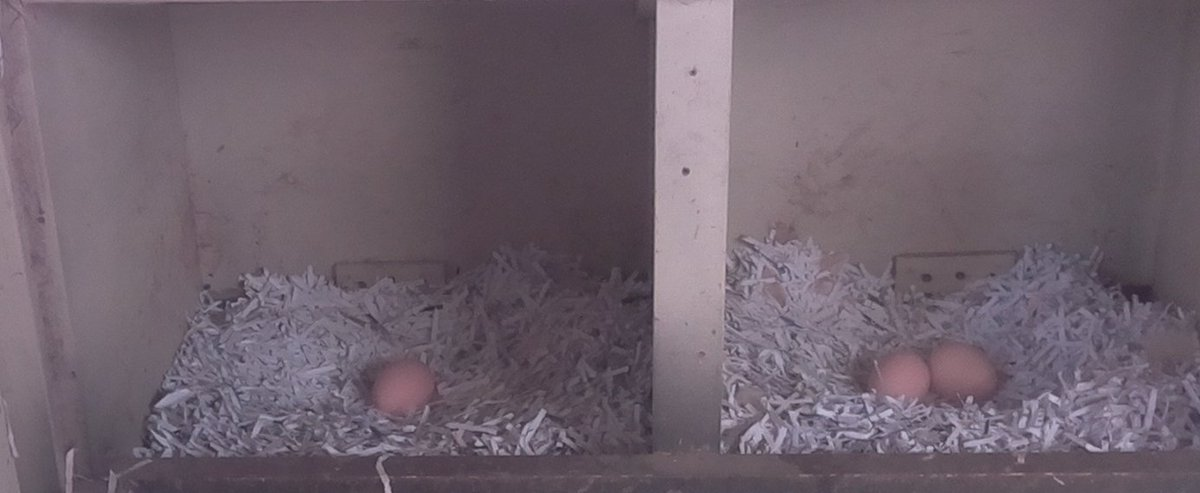egg: (924, 339, 1003, 410), (365, 355, 438, 420), (868, 348, 932, 413)
